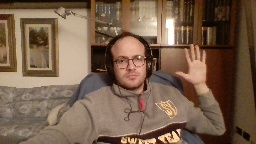Mano_aperta: (174, 42, 207, 85)
